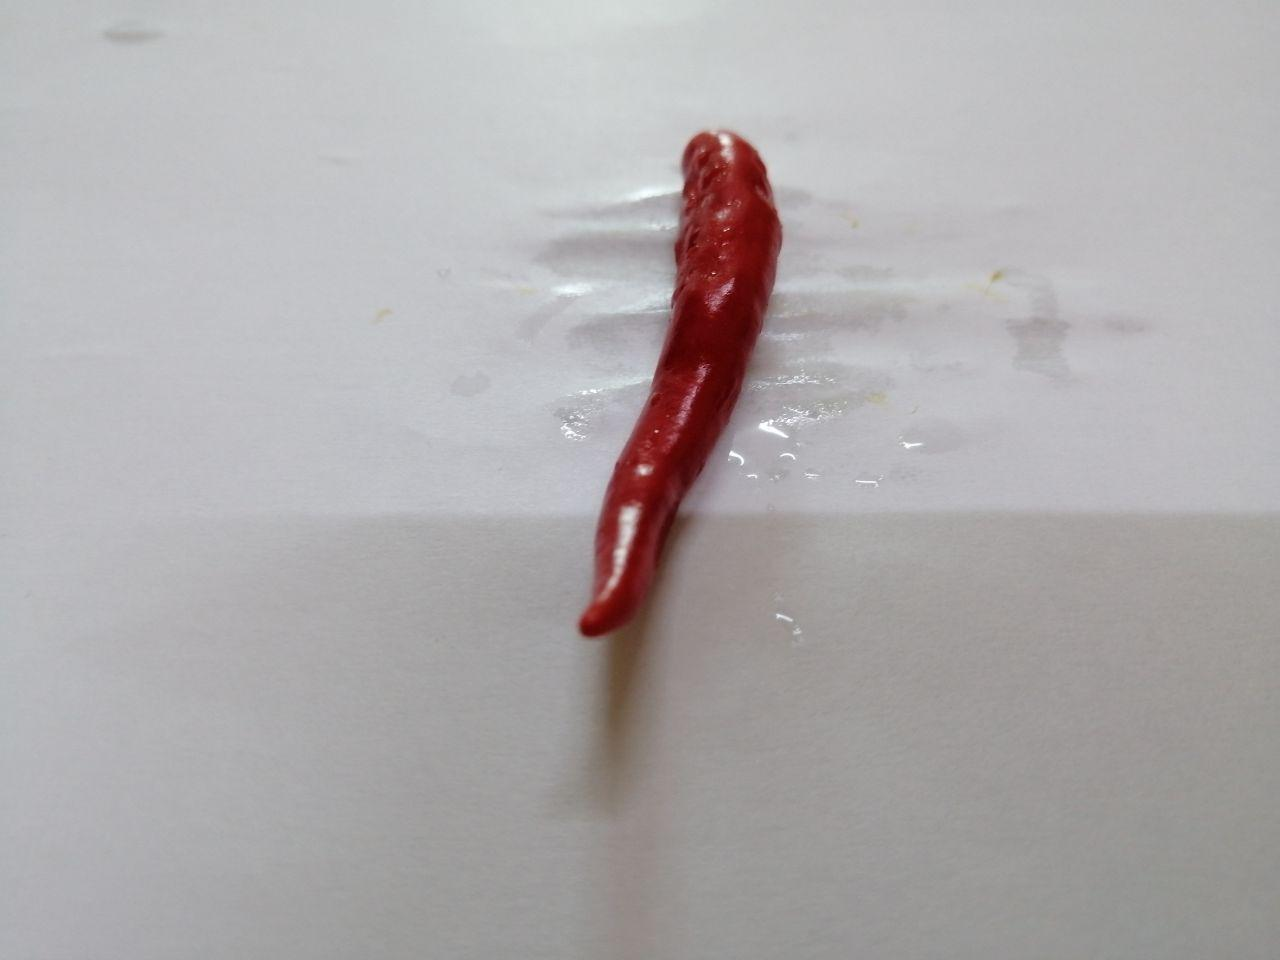lada merah: (546, 108, 827, 658)
